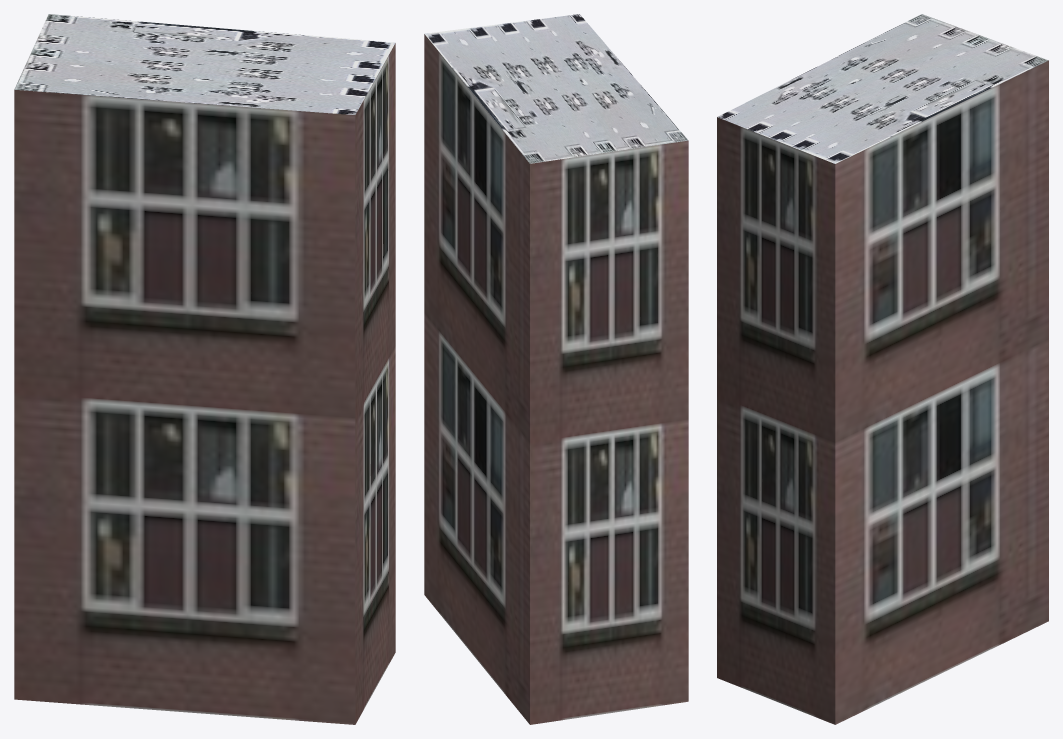
File: ResTex__1388.fbx
The picture shows the model from 3 angles, left to right: view 1: azimuth 30°, elevation 25°; view 2: azimuth 150°, elevation 25°; view 3: azimuth 270°, elevation 25°; orthographic projection. The views are drawn at different scales.
Visible parts, largest first — view 1: CityEngineMaterial_12_m, CityEngineMaterial_m; view 2: CityEngineMaterial_12_m, CityEngineMaterial_m; view 3: CityEngineMaterial_12_m, CityEngineMaterial_m.
Part boxes in pixels (box(x1,y1,x2,y2)): CityEngineMaterial_12_m: box(14, 43, 395, 724); CityEngineMaterial_m: box(14, 14, 395, 114); CityEngineMaterial_12_m: box(424, 34, 688, 724); CityEngineMaterial_m: box(424, 14, 688, 163); CityEngineMaterial_12_m: box(717, 60, 1048, 724); CityEngineMaterial_m: box(717, 14, 1048, 163).
Bounding box in the file's own units: 3.44 × 6 × 3.22.
2 materials, 2 textured.
